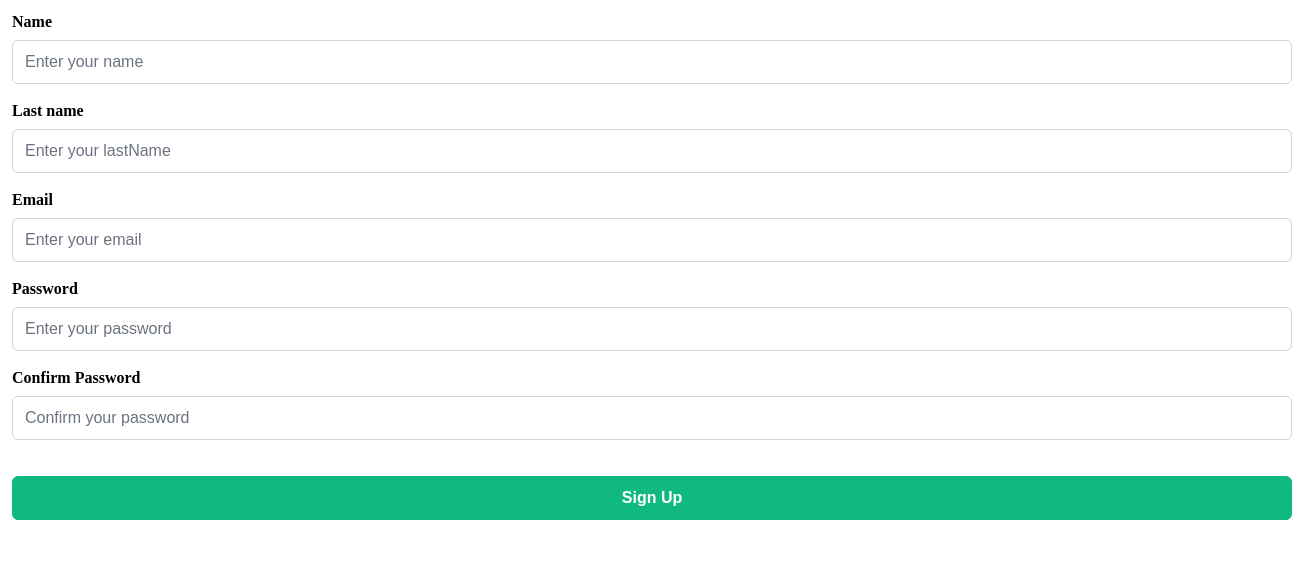
Scenario: SignUpForm › should show error when passwords do not match and clear when they match
Type "Password123!" into the password field with test id "password-input" at (652, 329), box [12,307,1292,351]
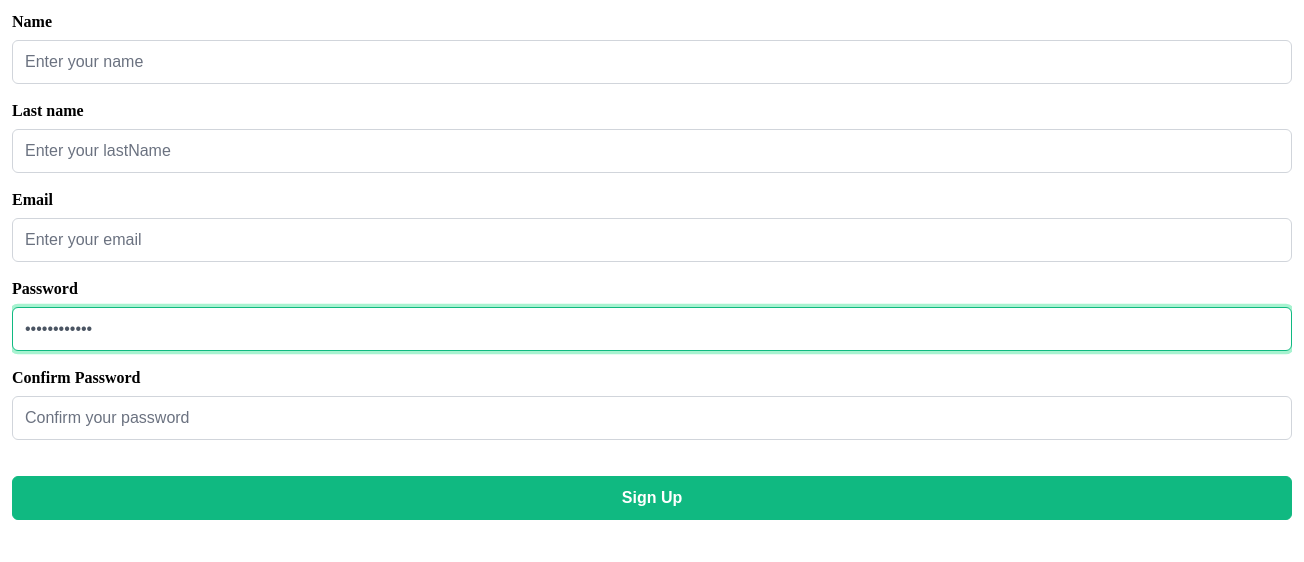
Type "Different123!" into the password field with test id "confirmPassword-input" at (652, 418), box [12,396,1292,440]
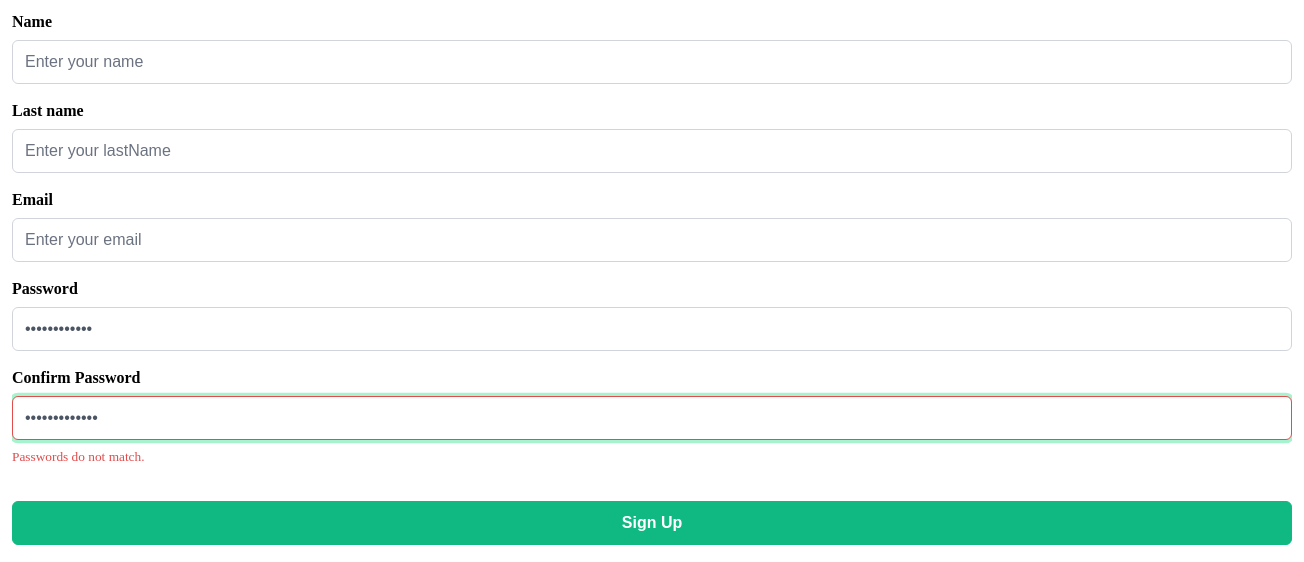
Result: the text with test id "confirmPassword-message" reads "Passwords do not match." at [12,449,144,464]
Type "Password123!" into the password field with test id "confirmPassword-input" at (652, 418), box [12,396,1292,440]
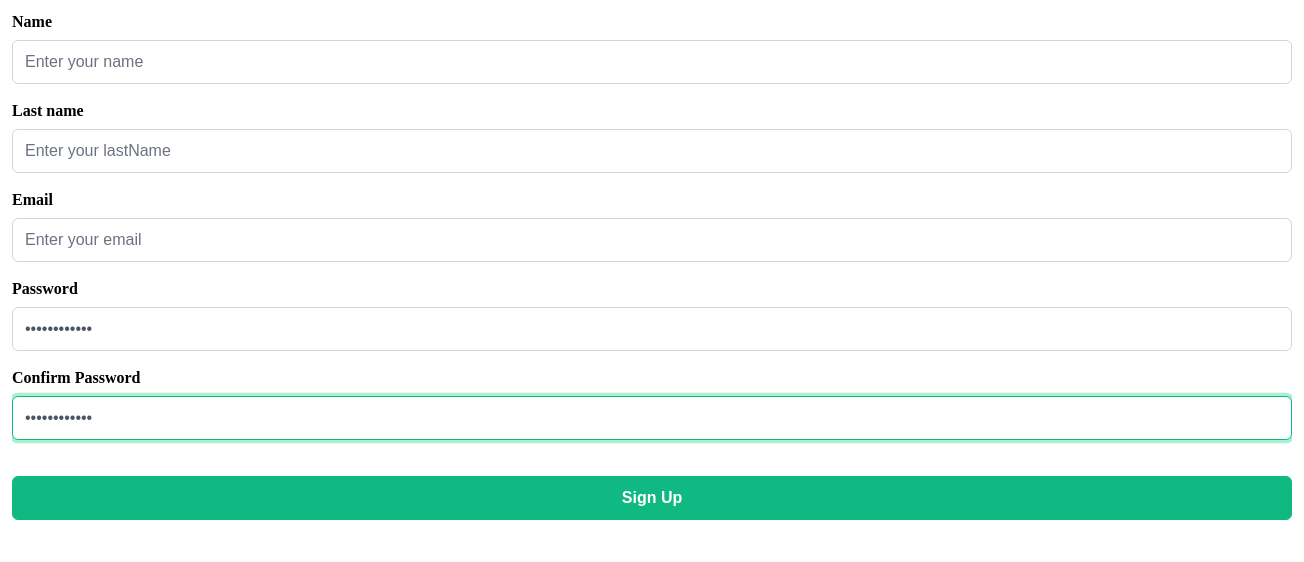
Result: the text with test id "confirmPassword-message" is gone
